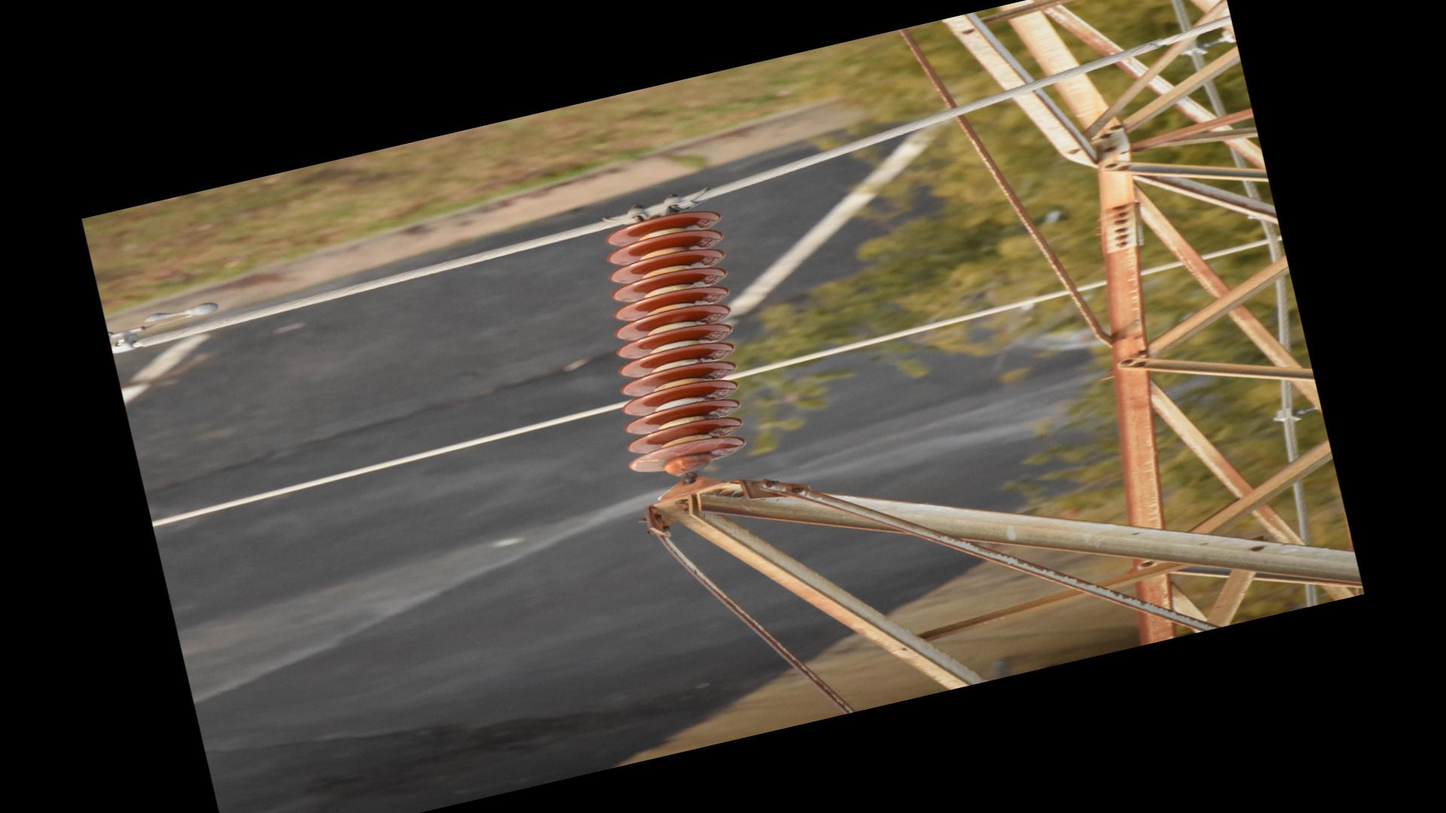damper: (105, 294, 227, 358)
